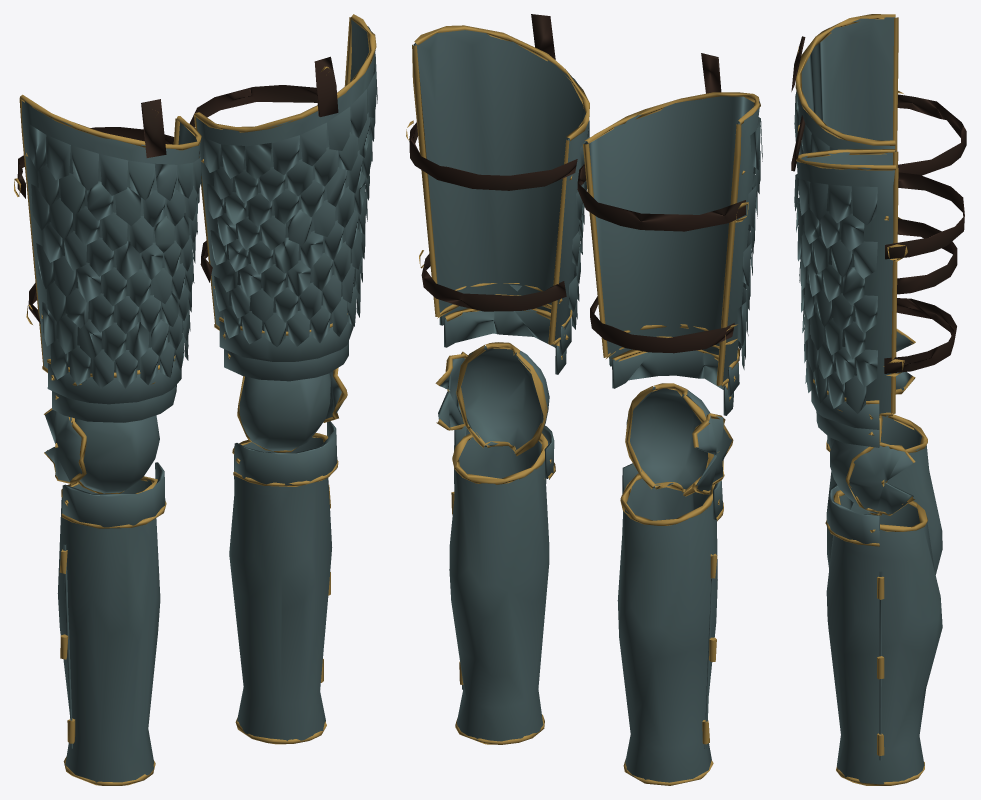
The picture shows the model from 3 angles, left to right: view 1: azimuth 30°, elevation 25°; view 2: azimuth 150°, elevation 25°; view 3: azimuth 270°, elevation 25°; orthographic projection. The views are drawn at different scales.
Parts seen in each view (by area): view 1: blued scale plate, oiled strap leather; view 2: blued scale plate, oiled strap leather; view 3: blued scale plate, oiled strap leather.
Boxes of the visible parts, bbox=[...] form: blued scale plate: bbox=[14, 14, 377, 785]; oiled strap leather: bbox=[17, 56, 338, 323]; blued scale plate: bbox=[406, 25, 762, 785]; oiled strap leather: bbox=[409, 14, 745, 353]; blued scale plate: bbox=[794, 14, 942, 785]; oiled strap leather: bbox=[791, 36, 966, 373].
Bounding box in the file's own units: 0.4188 × 0.8142 × 0.1985.
